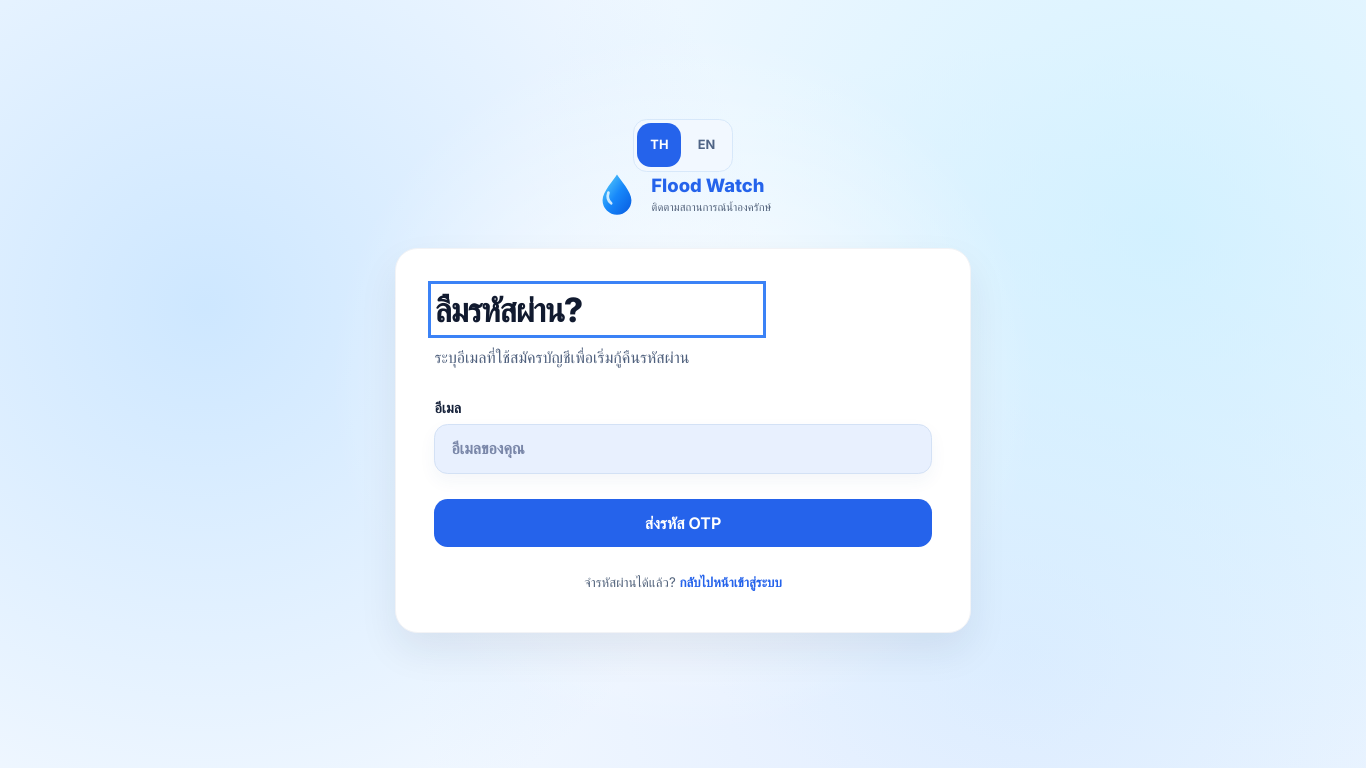
Test: ForgotPasswordPage › requests an OTP without claiming delivery and applies the server cooldown
Type "user@example.com" into the field labelled "อีเมล".
click(683, 449); type("user@example.com")  # box [434,424,932,474]
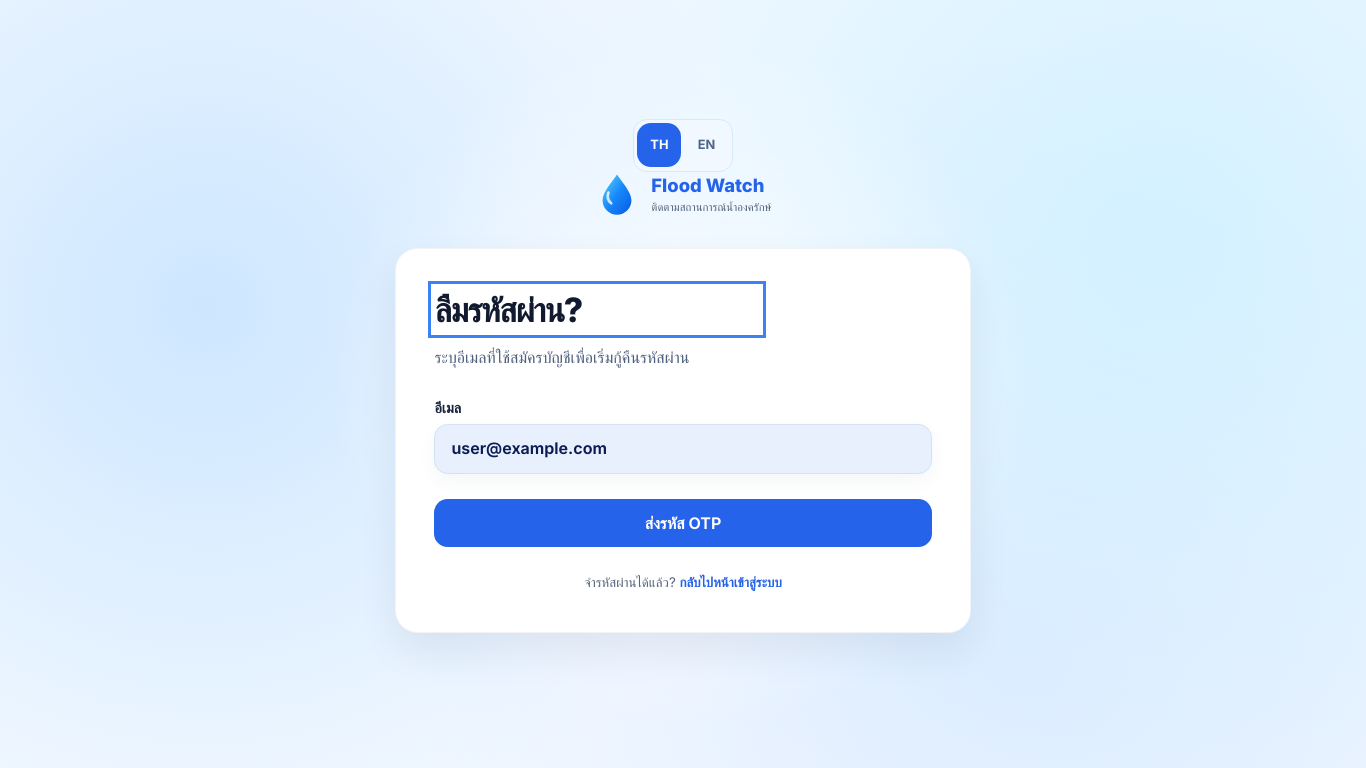
Click the button "ส่งรหัส OTP".
click(683, 523)  # box [434,499,932,547]
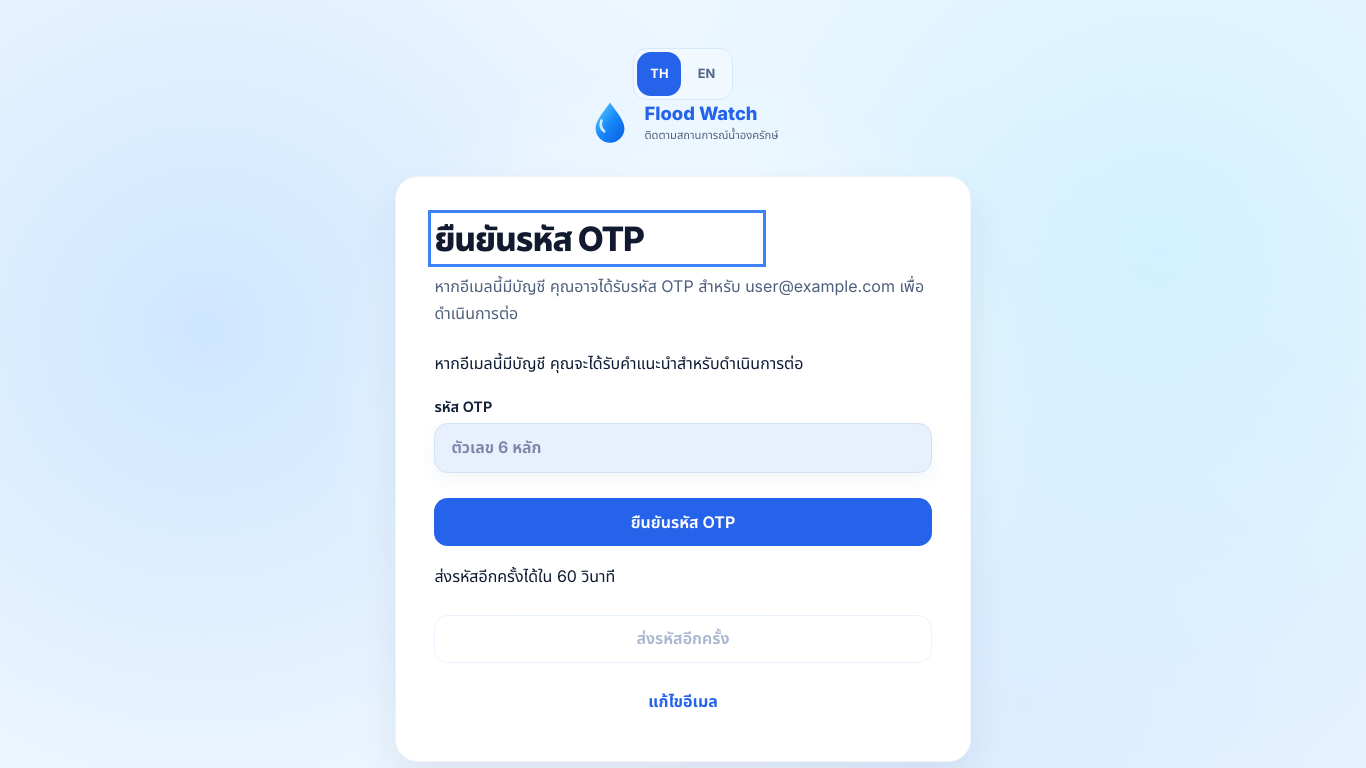
Result: the heading "ยืนยันรหัส OTP" is shown at [434,218,644,259]
Result: the message named "ข้อมูลการกู้คืน" shows "หากอีเมลนี้มีบัญชี" at [434,354,803,374]
Result: the button "ส่งรหัสอีกครั้ง" is disabled at [434,615,932,663]
